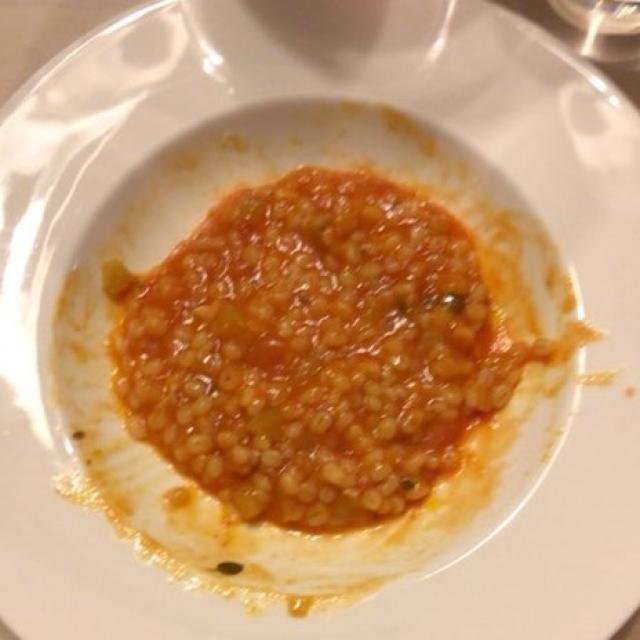tomato-sauce: (126, 182, 511, 528)
